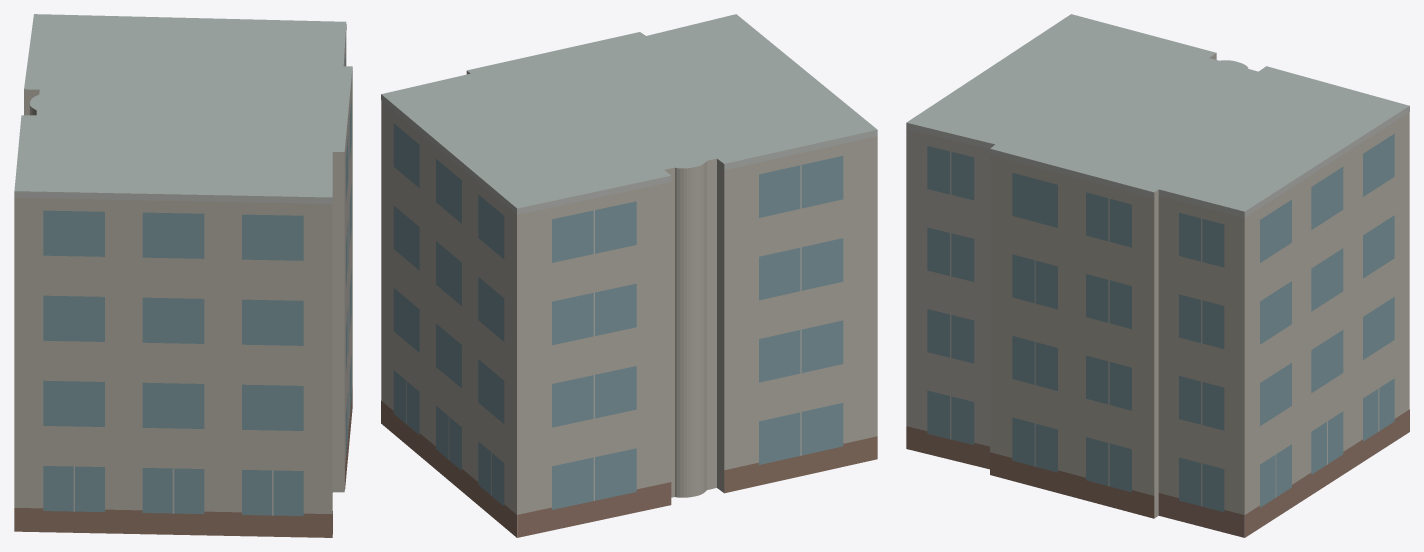
Rendered from survey-upis-32732710.glb.
The picture shows the model from 3 angles, left to right: view 1: azimuth 30°, elevation 25°; view 2: azimuth 150°, elevation 25°; view 3: azimuth 270°, elevation 25°; orthographic projection. The views are drawn at different scales.
Visible parts, largest first — view 1: survey-upis-32732710.tmp; view 2: survey-upis-32732710.tmp; view 3: survey-upis-32732710.tmp.
Boxes of the visible parts, x1=… form: survey-upis-32732710.tmp: x1=14, y1=14, x2=352, y2=537; survey-upis-32732710.tmp: x1=381, y1=14, x2=877, y2=537; survey-upis-32732710.tmp: x1=906, y1=14, x2=1409, y2=537.
Bounding box in the file's own units: 16.7 × 12.85 × 17.98.
